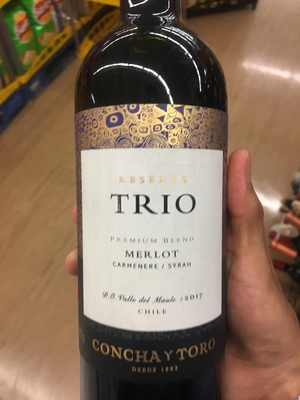trio merlot: (62, 23, 231, 376)
